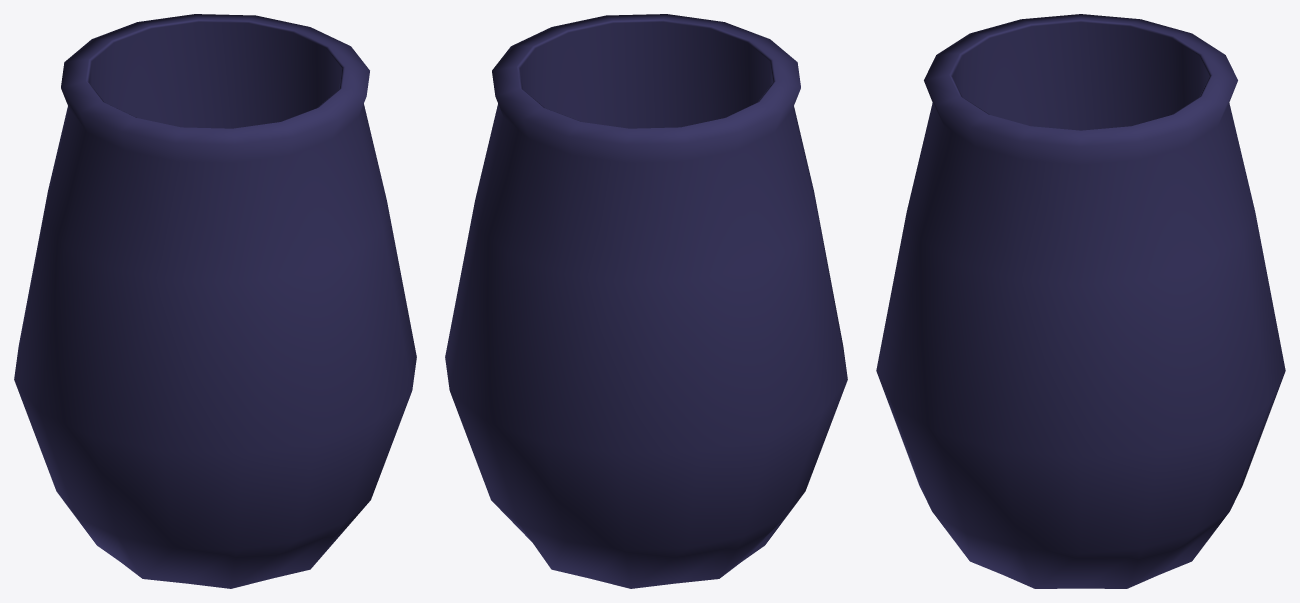
File: B_Jar_01.fbx
The picture shows the model from 3 angles, left to right: view 1: azimuth 30°, elevation 25°; view 2: azimuth 150°, elevation 25°; view 3: azimuth 270°, elevation 25°; orthographic projection.
Visible parts, largest first — view 1: B_Jar_01; view 2: B_Jar_01; view 3: B_Jar_01.
Boxes of the visible parts, left/top/right/bottom form: B_Jar_01: left=14, top=14, right=416, bottom=588; B_Jar_01: left=445, top=14, right=847, bottom=588; B_Jar_01: left=876, top=14, right=1285, bottom=588.
Bounding box in the file's own units: 56.4 × 71.01 × 56.4.
